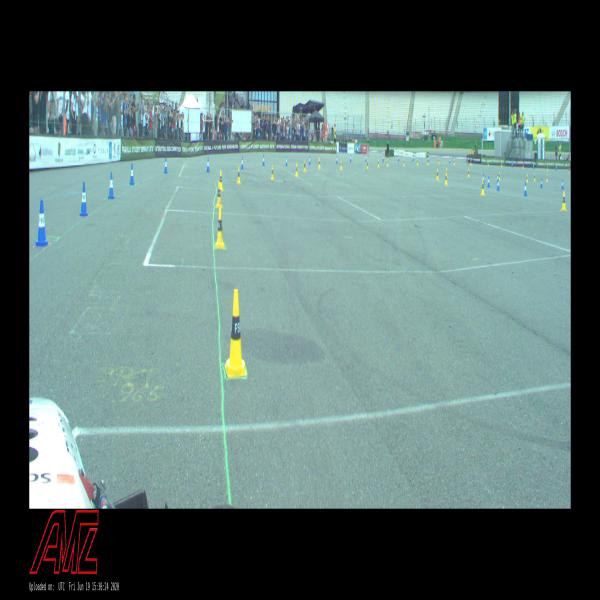blue_cone: (36, 200, 48, 245), (80, 182, 88, 216), (108, 172, 114, 199), (130, 163, 134, 184), (206, 158, 210, 171), (164, 157, 167, 173), (241, 156, 244, 169), (524, 183, 527, 195), (496, 173, 499, 184), (262, 154, 264, 166), (488, 176, 490, 187), (497, 179, 499, 190), (336, 155, 338, 164), (365, 154, 367, 162), (382, 155, 384, 161), (286, 156, 287, 166), (483, 174, 484, 184), (562, 180, 563, 189), (541, 178, 542, 187), (350, 154, 351, 162), (309, 156, 310, 164), (412, 156, 414, 160), (533, 164, 534, 169), (512, 162, 513, 167), (398, 156, 399, 160), (556, 166, 557, 170), (468, 159, 468, 164)
yellow_cone: (225, 290, 246, 376), (215, 207, 224, 248), (215, 182, 222, 208), (561, 192, 566, 210), (220, 170, 223, 190), (237, 167, 240, 183), (481, 180, 484, 194), (271, 166, 274, 179), (295, 163, 298, 176), (304, 160, 306, 172), (445, 172, 447, 184), (436, 169, 438, 180), (318, 158, 320, 168), (340, 160, 342, 170), (546, 174, 548, 182), (445, 168, 447, 176), (526, 175, 528, 182), (470, 160, 472, 165), (378, 159, 379, 167), (468, 169, 469, 177), (367, 160, 368, 168), (499, 172, 500, 180), (534, 173, 535, 180), (403, 159, 404, 166), (387, 159, 388, 166), (417, 158, 418, 165), (428, 158, 429, 164), (438, 158, 439, 163), (547, 166, 548, 171), (454, 159, 455, 164), (523, 163, 524, 168), (568, 168, 569, 173), (488, 160, 488, 167)
